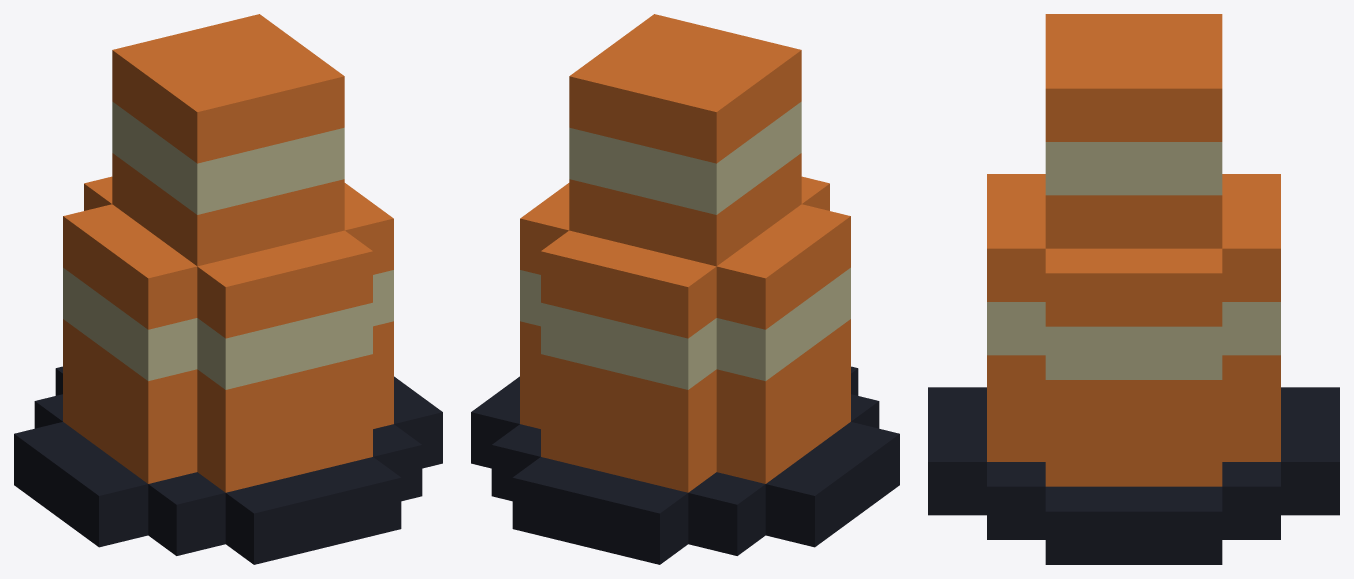
The model's file is ConstructionCone_Mesh_001.fbx.
The picture shows the model from 3 angles, left to right: view 1: azimuth 30°, elevation 25°; view 2: azimuth 150°, elevation 25°; view 3: azimuth 270°, elevation 25°; orthographic projection. The views are drawn at different scales.
Visible parts, largest first — view 1: ConstructionCone_001; view 2: ConstructionCone_001; view 3: ConstructionCone_001.
Boxes of the visible parts, box(x1,y1,x2,y2) form: ConstructionCone_001: box(14, 14, 442, 564); ConstructionCone_001: box(471, 14, 899, 564); ConstructionCone_001: box(928, 14, 1339, 564).
Bounding box in the file's own units: 0.7 × 0.8 × 0.7.
